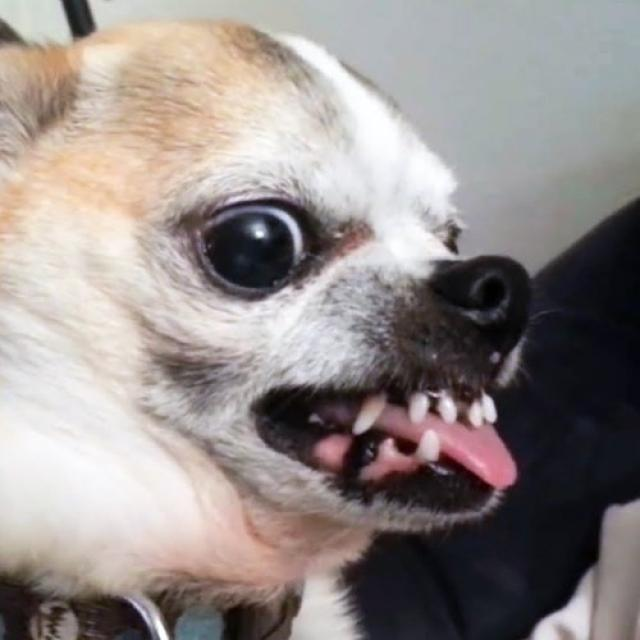angry: (2, 11, 542, 562)
